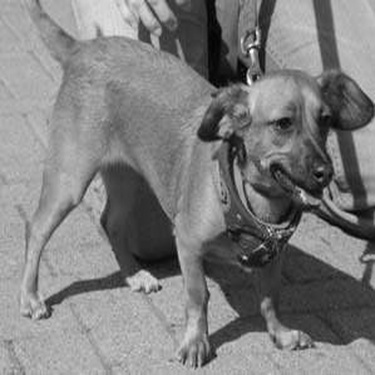dog: (15, 2, 370, 369)
